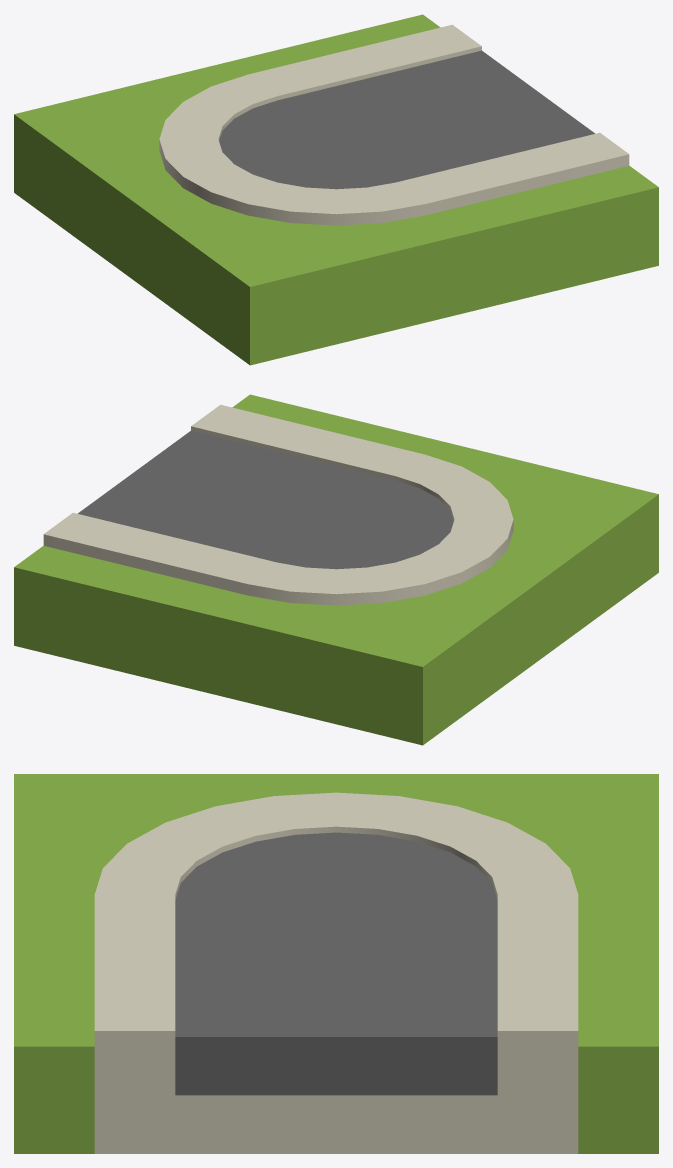
Rendered from roadTile_026.fbx.
The picture shows the model from 3 angles, top to bottom: view 1: azimuth 30°, elevation 25°; view 2: azimuth 150°, elevation 25°; view 3: azimuth 270°, elevation 25°; orthographic projection. The views are drawn at different scales.
Parts seen in each view (by area): view 1: roadTile_026; view 2: roadTile_026; view 3: roadTile_026.
Boxes of the visible parts, x1,y1,x2,y2 form: roadTile_026: (14, 14, 658, 365); roadTile_026: (14, 394, 658, 745); roadTile_026: (14, 774, 658, 1153).
Bounding box in the file's own units: 118 × 24.8 × 118.
